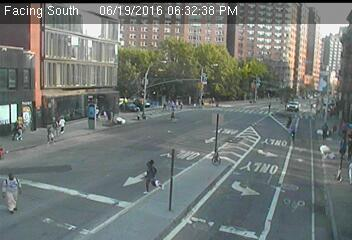neg: (286, 198, 308, 226), (29, 41, 51, 69), (96, 153, 115, 178), (243, 167, 261, 192), (101, 46, 119, 70), (210, 97, 228, 121), (208, 140, 225, 163), (88, 97, 105, 120), (219, 196, 236, 218), (148, 54, 164, 76), (248, 114, 264, 135), (277, 168, 293, 188), (187, 57, 202, 78), (112, 109, 126, 128), (56, 152, 70, 171), (258, 35, 272, 54), (218, 60, 231, 78), (251, 68, 264, 85), (316, 66, 329, 83), (77, 54, 89, 71), (295, 35, 307, 51), (287, 75, 299, 91), (322, 144, 333, 160)
pos: (3, 170, 38, 217), (137, 156, 164, 192), (14, 121, 30, 142), (167, 102, 181, 122), (320, 120, 333, 137), (56, 115, 68, 132)
